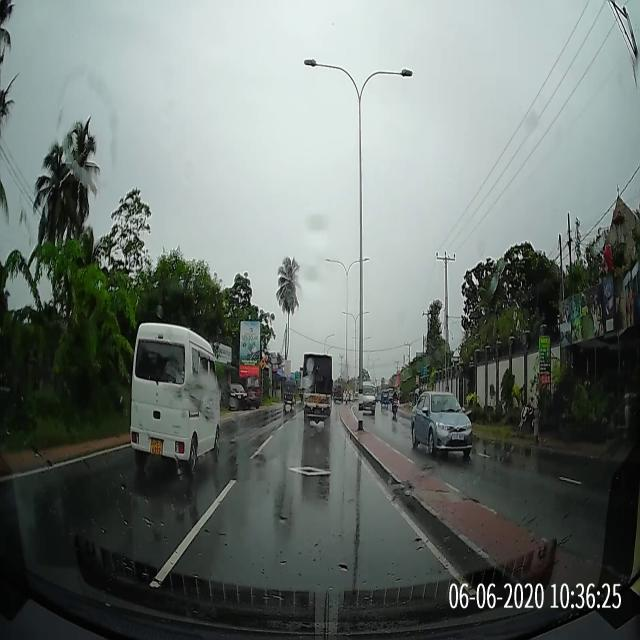Romb: (286, 464, 333, 477)
